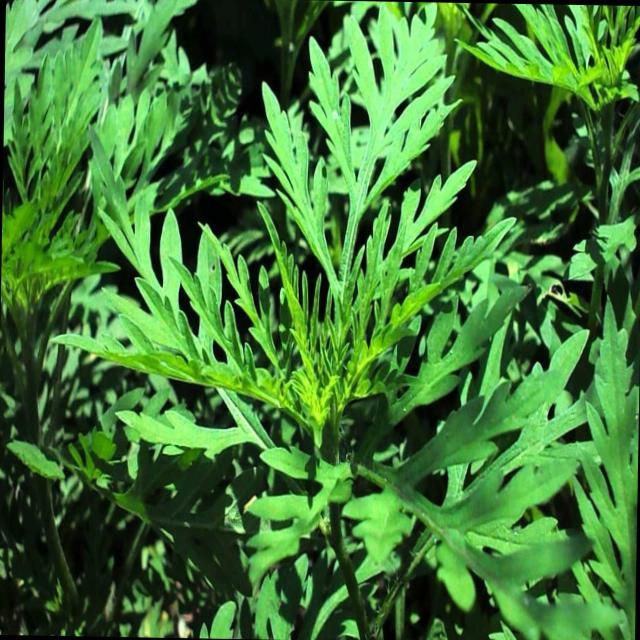ambrosia: (207, 125, 499, 570)
